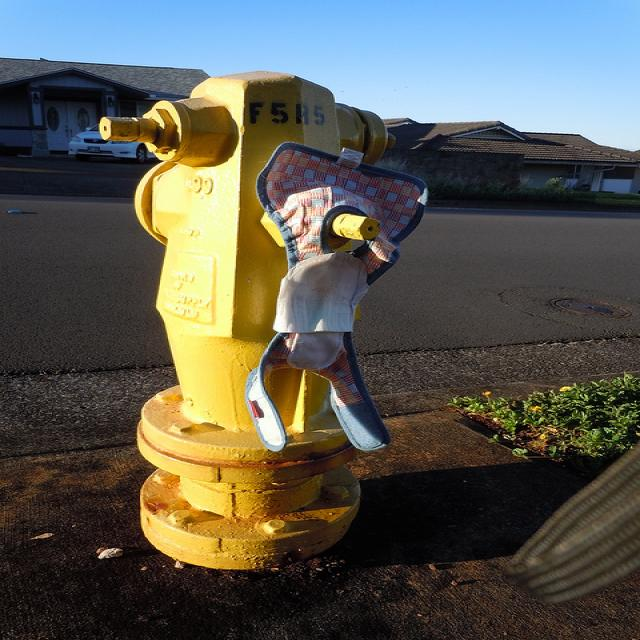Vehicle: (68, 124, 156, 164)
